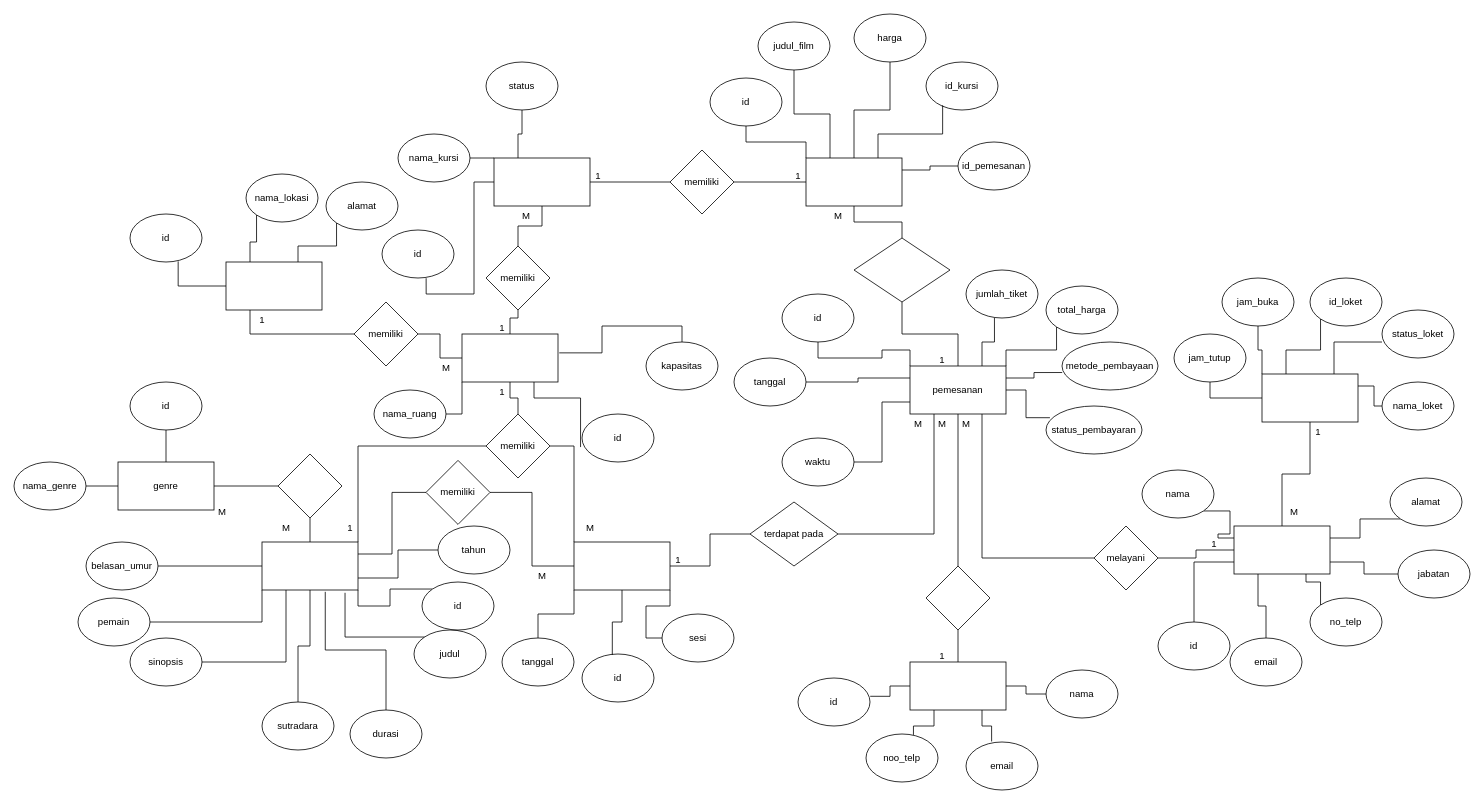
The diagram is 1484 pixels wide and 804 high, and some of its shapes have lost their labels. The centre of each missing label's shape, as x and y in pixels:
"barang_dipesan" belongs at pixel 901 269.
"film" belongs at pixel 309 565.
"jadwal" belongs at pixel 621 565.
"kursi" belongs at pixel 541 181.
"lokasi_bioskop" belongs at pixel 273 285.
"loket" belongs at pixel 1309 397.
"melakukan" belongs at pixel 957 597.
"mempunyai" belongs at pixel 309 485.
"pengunjung" belongs at pixel 957 685.
"petugas" belongs at pixel 1281 549.
"ruang" belongs at pixel 509 357.
"tiket" belongs at pixel 853 181.
